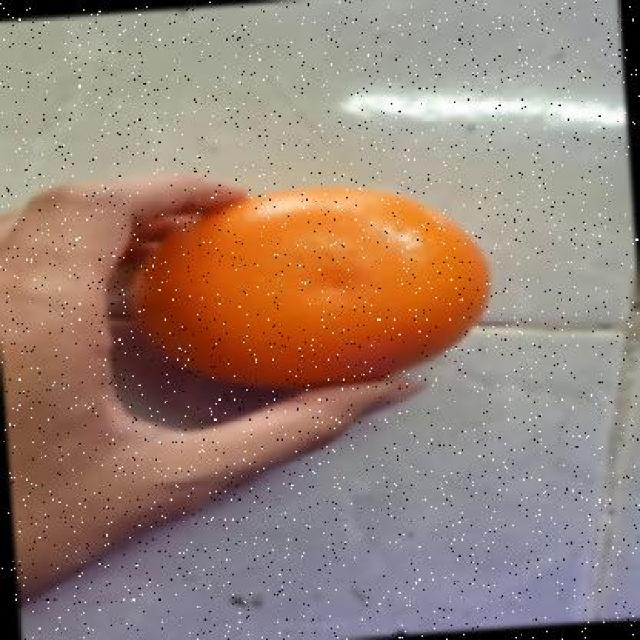Orange: (130, 183, 492, 391)
